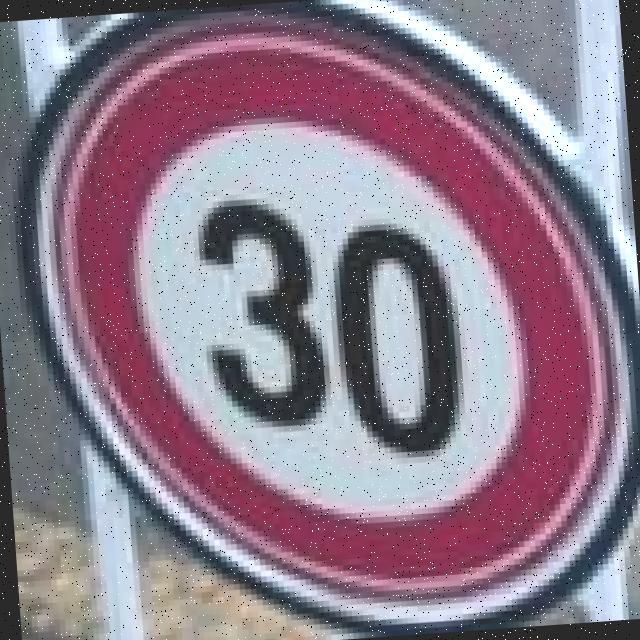Ograniczenie predkosci do 30: (23, 0, 638, 640)
